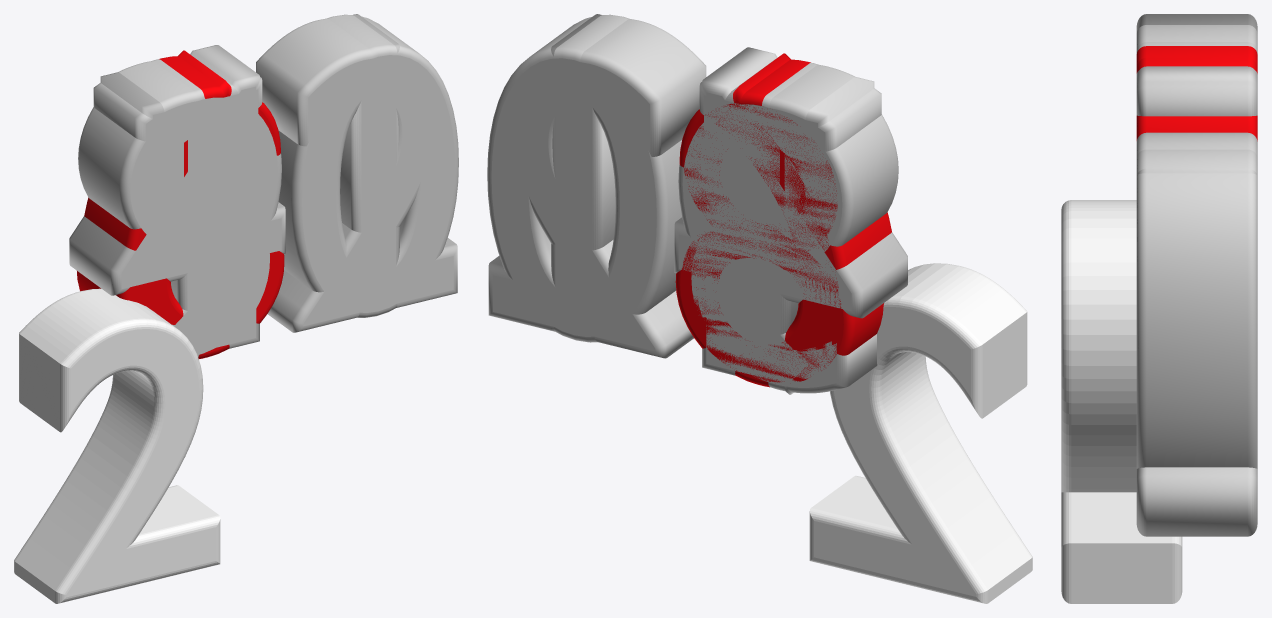
Rendered from num_2.glb.
3 views of the same model, side by side, from view 1: azimuth 30°, elevation 25°; view 2: azimuth 150°, elevation 25°; view 3: azimuth 270°, elevation 25° (orthographic). The views are drawn at different scales.
Visible parts, largest first — view 1: Text.001, Text, Text.004; view 2: Text.001, Text, Text.004; view 3: Text.001, Text, Text.004.
Boxes of the visible parts, box(x1,y1,x2,y2) form: Text.001: box(69, 14, 458, 356); Text: box(14, 288, 220, 603); Text.004: box(77, 50, 284, 358); Text.001: box(487, 14, 907, 394); Text: box(809, 263, 1032, 603); Text.004: box(675, 53, 891, 387); Text.001: box(1136, 14, 1257, 536); Text: box(1061, 200, 1182, 603); Text.004: box(1136, 46, 1257, 141).
Bounding box in the file's own units: 1.24 × 1.24 × 0.3893.
